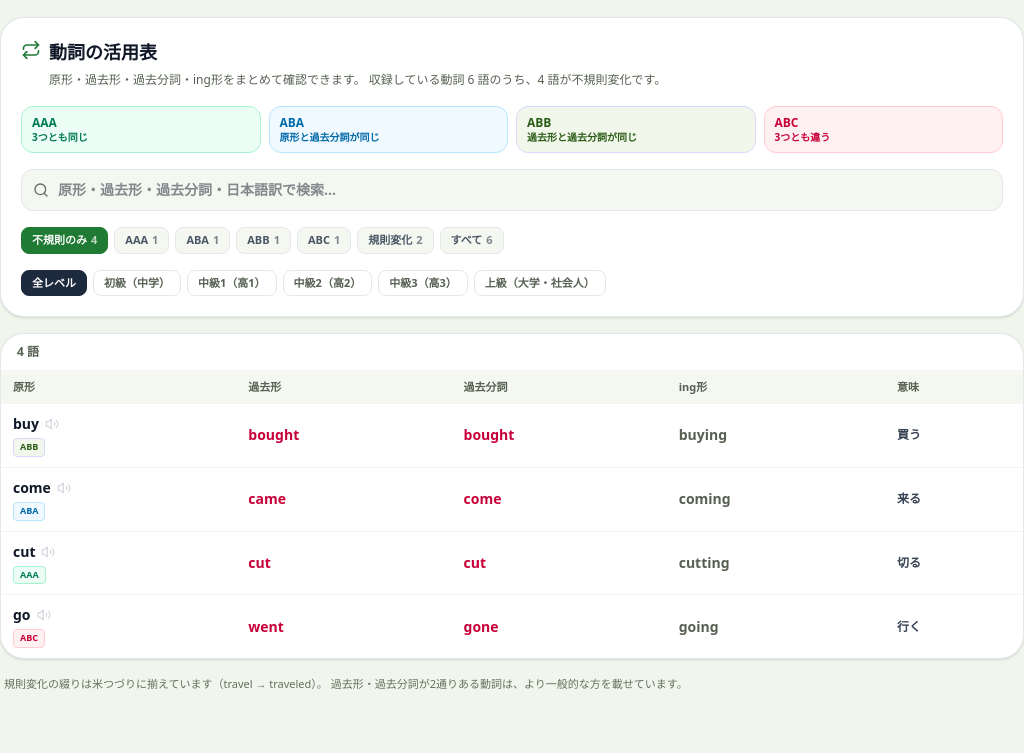
Test case: 活用表 › 変化の型を各行に添える
Click the button "すべて6" at (472, 241), box [440,227,504,254]
(page scrolled)
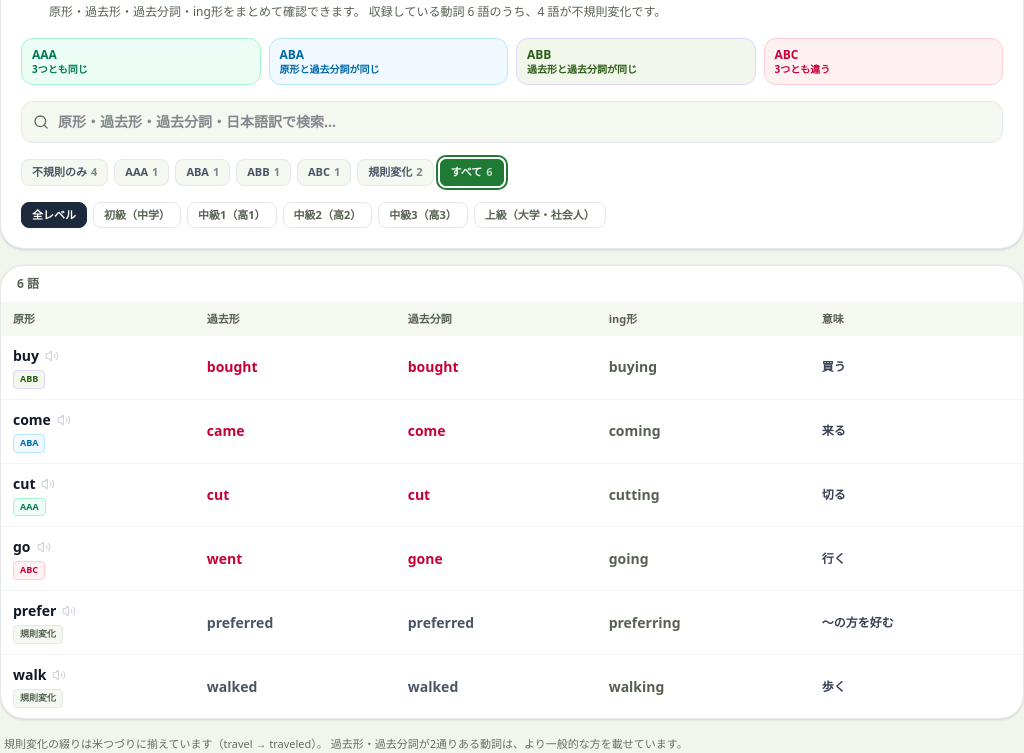
Expected: the cell "go ABC" is shown, [1,527,195,591]
Now the cell "walk 規則変化" is shown, box [1,655,195,718]
